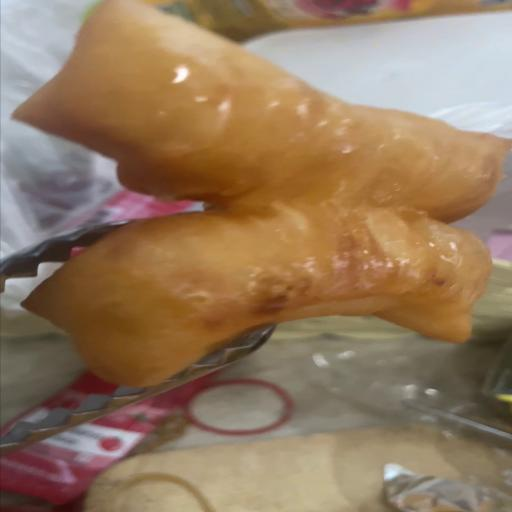street_golden_good: (12, 2, 506, 400)
